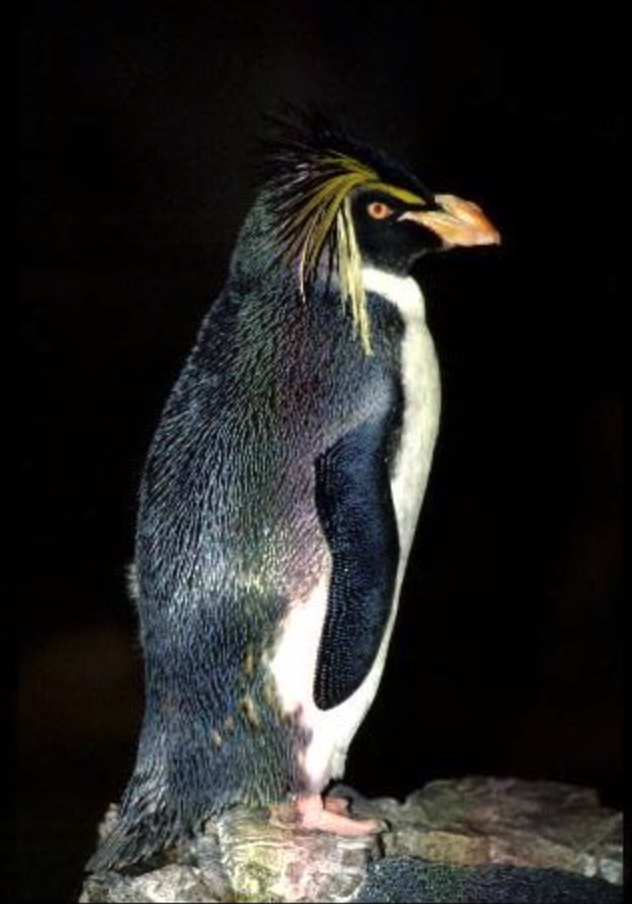penguin: (100, 103, 484, 838)
